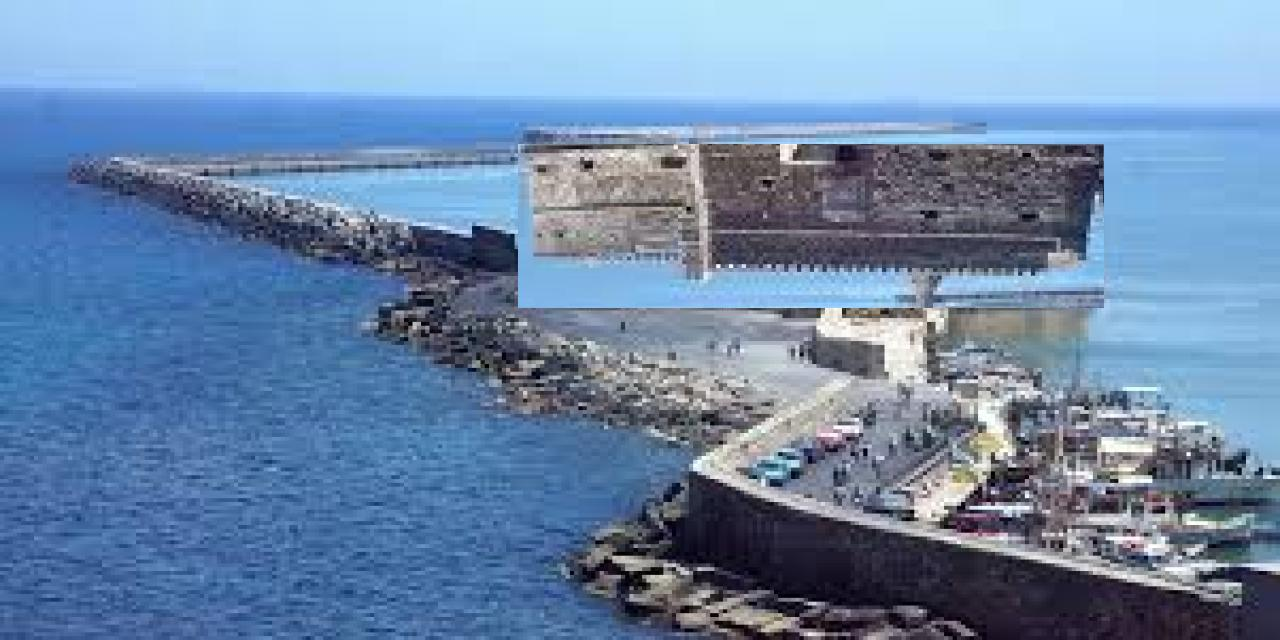Kules: (519, 145, 1105, 309)
